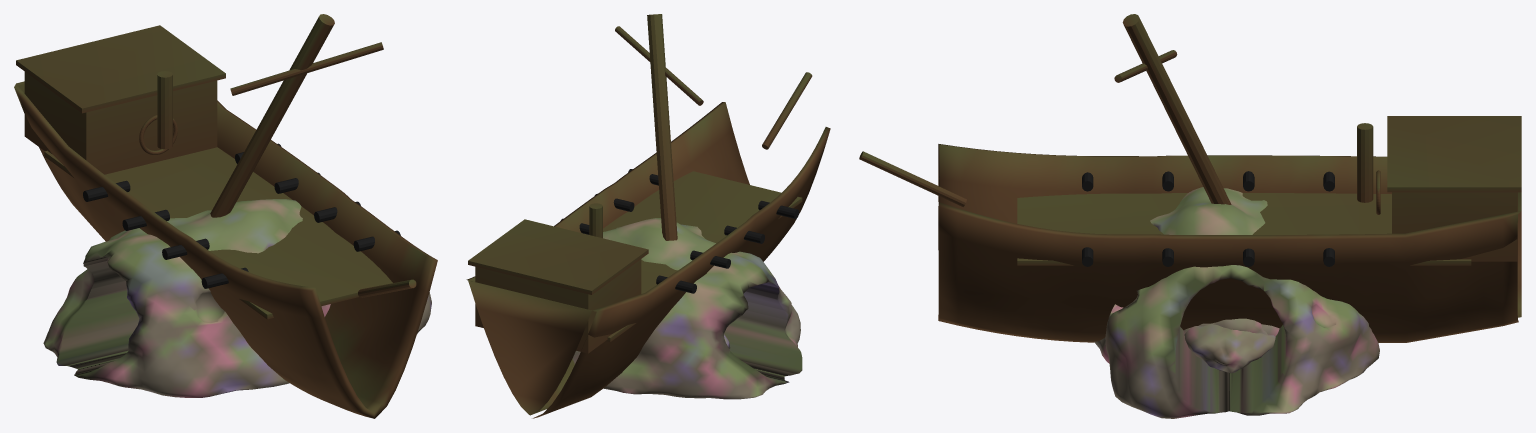
File: arrecife.glb
3 views of the same model, side by side, from view 1: azimuth 30°, elevation 25°; view 2: azimuth 150°, elevation 25°; view 3: azimuth 270°, elevation 25° (orthographic). The views are drawn at different scales.
Visible parts, largest first — view 1: BarcoPirata, Cueva; view 2: BarcoPirata, Cueva; view 3: BarcoPirata, Cueva, Roca3.
Boxes of the visible parts, box(x1,y1,x2,y2) form: BarcoPirata: box(14, 14, 437, 418); Cueva: box(43, 199, 431, 397); BarcoPirata: box(466, 14, 830, 418); Cueva: box(572, 218, 802, 399); BarcoPirata: box(859, 14, 1521, 342); Cueva: box(1094, 187, 1379, 418); Roca3: box(1184, 324, 1275, 373).
Bounding box in the file's own units: 8.83 × 8.73 × 14.8.
